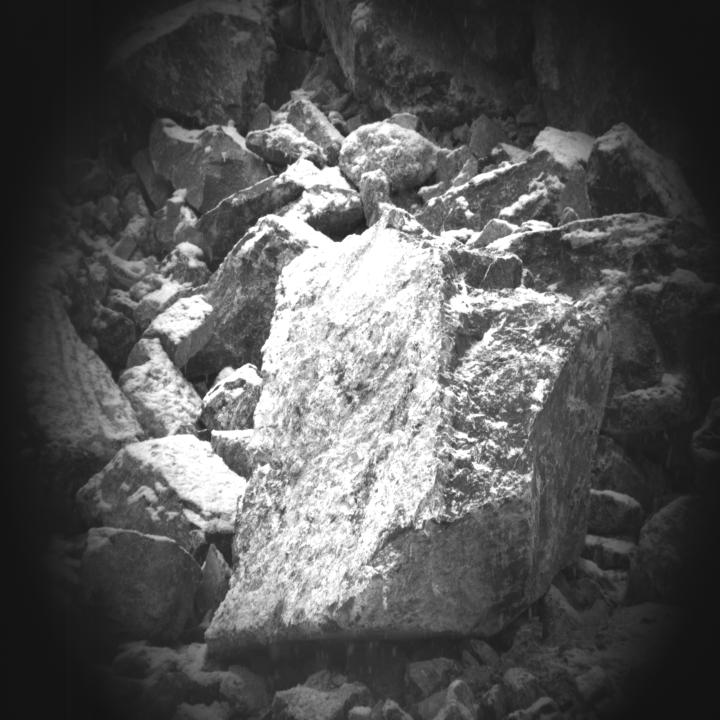stone: (204, 202, 616, 661), (75, 435, 245, 555), (147, 118, 270, 213), (584, 122, 693, 221), (339, 112, 440, 194), (138, 295, 214, 368), (200, 363, 258, 431), (245, 123, 328, 168)
